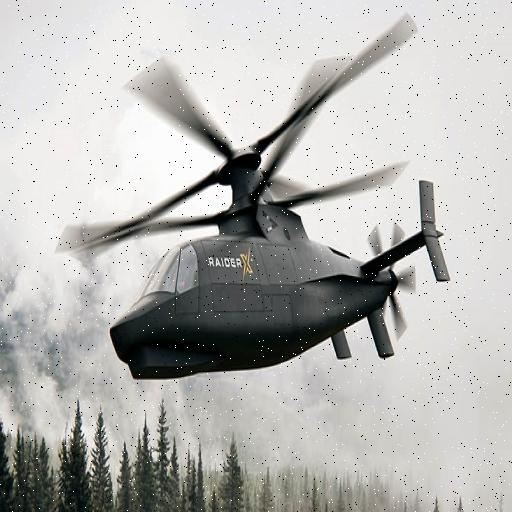helicopter: (40, 3, 468, 420)
